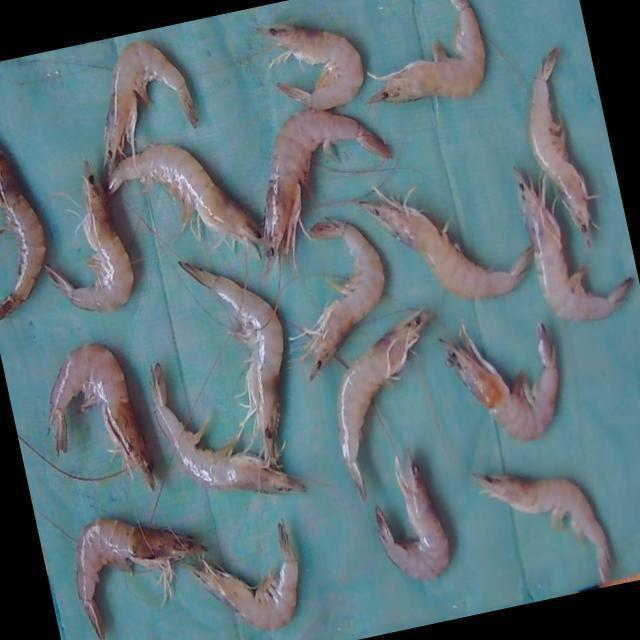shrimp: (178, 261, 283, 469), (262, 107, 390, 268), (151, 363, 305, 495), (356, 187, 532, 299), (514, 169, 634, 321), (337, 311, 433, 500), (75, 519, 204, 640), (105, 143, 260, 243), (47, 345, 154, 489), (474, 474, 610, 583), (42, 159, 133, 311), (441, 324, 559, 441), (529, 46, 597, 245), (303, 220, 384, 380), (103, 40, 197, 172), (188, 521, 298, 630), (369, 0, 485, 101), (375, 452, 449, 581), (257, 24, 363, 108), (0, 148, 44, 317)
